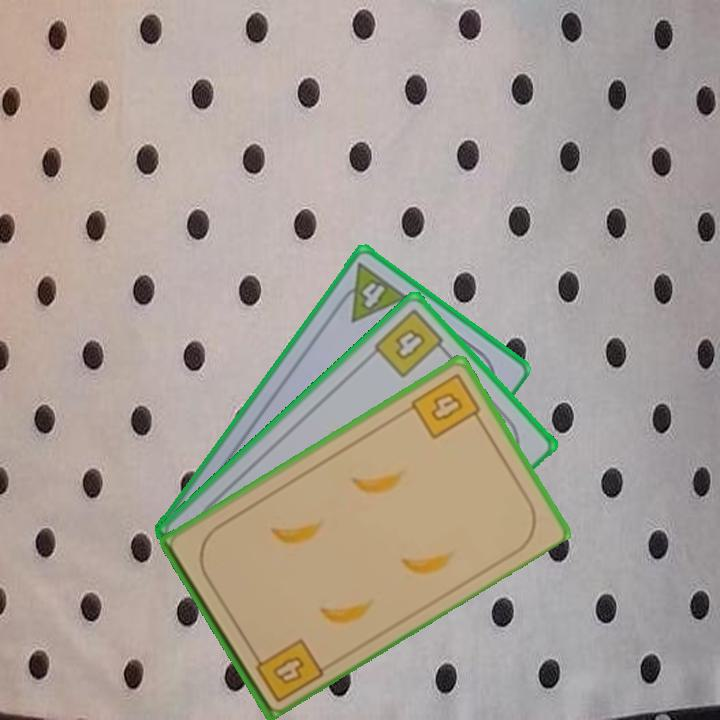4b: (370, 305, 452, 381), (407, 369, 486, 442), (247, 634, 326, 705)
4p: (330, 259, 411, 325)
